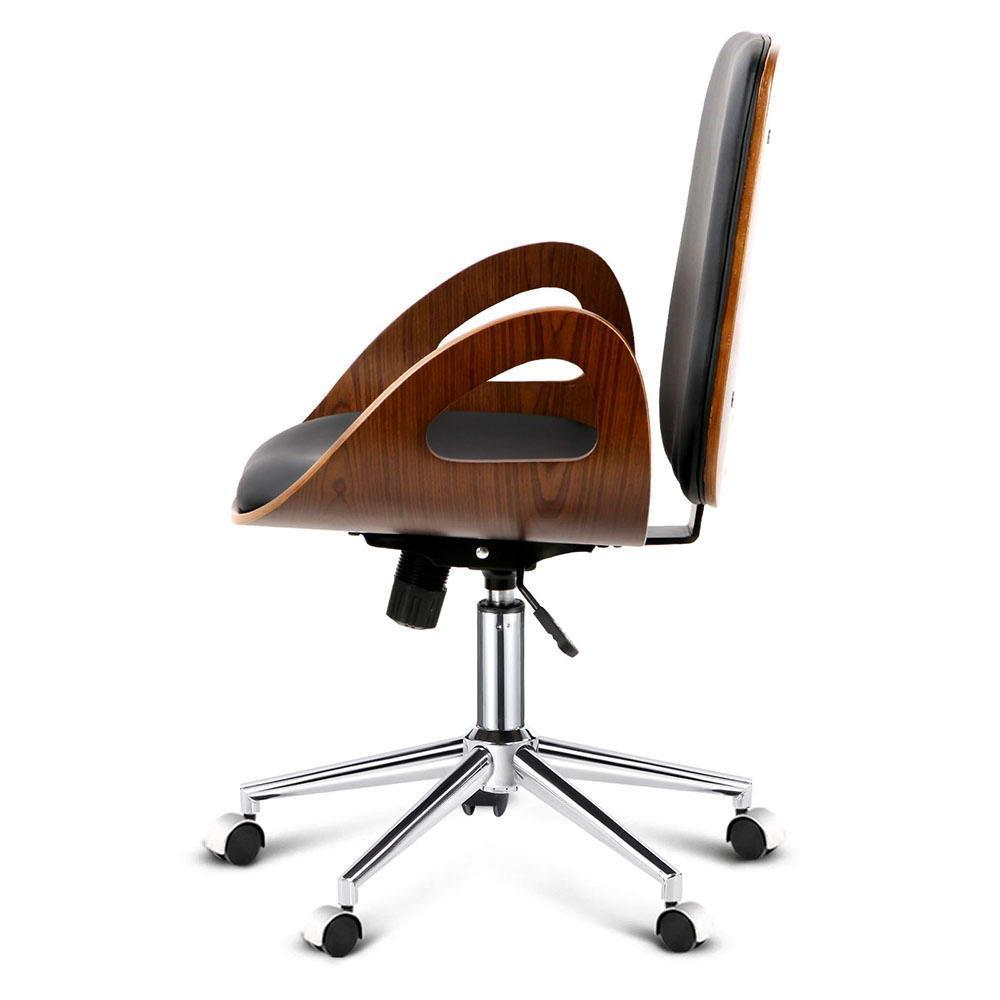chairs: (200, 32, 796, 967)
